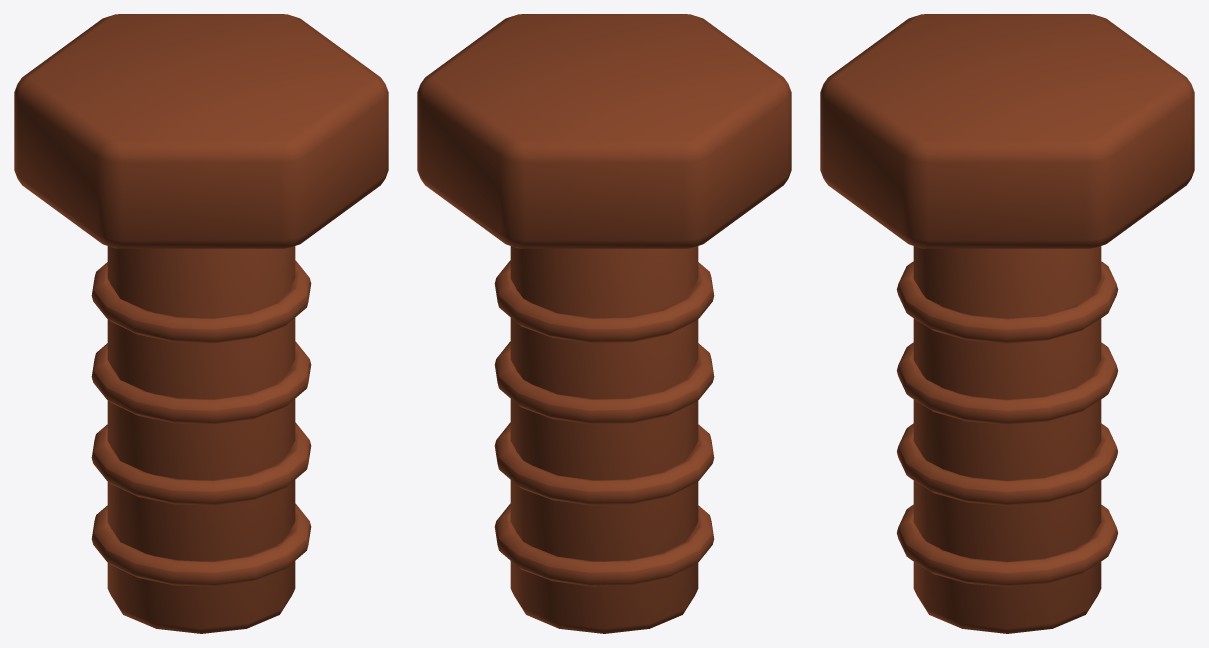
The model's file is Bolt_M6.fbx.
The picture shows the model from 3 angles, left to right: view 1: azimuth 30°, elevation 25°; view 2: azimuth 150°, elevation 25°; view 3: azimuth 270°, elevation 25°; orthographic projection.
Parts seen in each view (by area): view 1: Bolt_Head, Bolt_Shaft, Bolt_Thread_-0.17, Bolt_Thread_0.25, Bolt_Thread_-0.38, Bolt_Thread_0.04; view 2: Bolt_Head, Bolt_Shaft, Bolt_Thread_-0.17, Bolt_Thread_0.25, Bolt_Thread_-0.38, Bolt_Thread_0.04; view 3: Bolt_Head, Bolt_Shaft, Bolt_Thread_-0.38, Bolt_Thread_-0.17, Bolt_Thread_0.04, Bolt_Thread_0.25.
Part boxes in pixels (<box>): Bolt_Head: <box>14,14,388,248</box>; Bolt_Shaft: <box>107,246,295,633</box>; Bolt_Thread_-0.17: <box>91,422,311,505</box>; Bolt_Thread_0.25: <box>91,260,311,343</box>; Bolt_Thread_-0.38: <box>91,503,311,586</box>; Bolt_Thread_0.04: <box>91,341,311,424</box>; Bolt_Head: <box>417,14,791,248</box>; Bolt_Shaft: <box>510,246,698,633</box>; Bolt_Thread_-0.17: <box>494,422,714,505</box>; Bolt_Thread_0.25: <box>494,260,714,343</box>; Bolt_Thread_-0.38: <box>494,503,714,586</box>; Bolt_Thread_0.04: <box>494,341,714,424</box>; Bolt_Head: <box>820,14,1194,248</box>; Bolt_Shaft: <box>913,246,1101,633</box>; Bolt_Thread_-0.38: <box>897,504,1117,586</box>; Bolt_Thread_-0.17: <box>897,423,1117,505</box>; Bolt_Thread_0.04: <box>896,342,1118,424</box>; Bolt_Thread_0.25: <box>896,261,1118,343</box>.
Bounding box in the file's own units: 0.7794 × 1.35 × 0.8791.
